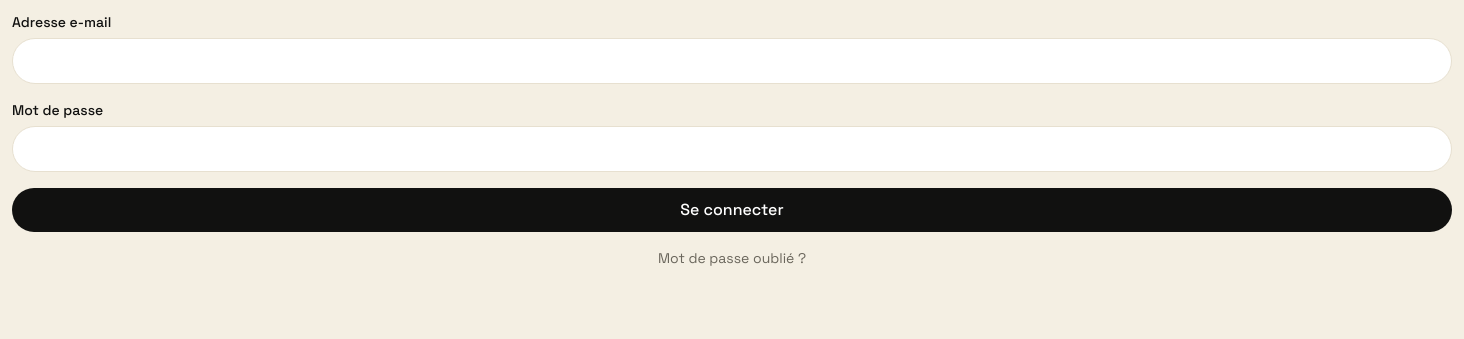
it: LoginForm › asks for an e-mail first when « Mot de passe oublié ? » is clicked empty
The image size is (1464, 339).
Click the button "Mot de passe oublié ?".
click(732, 258)  # box [12,248,1452,268]
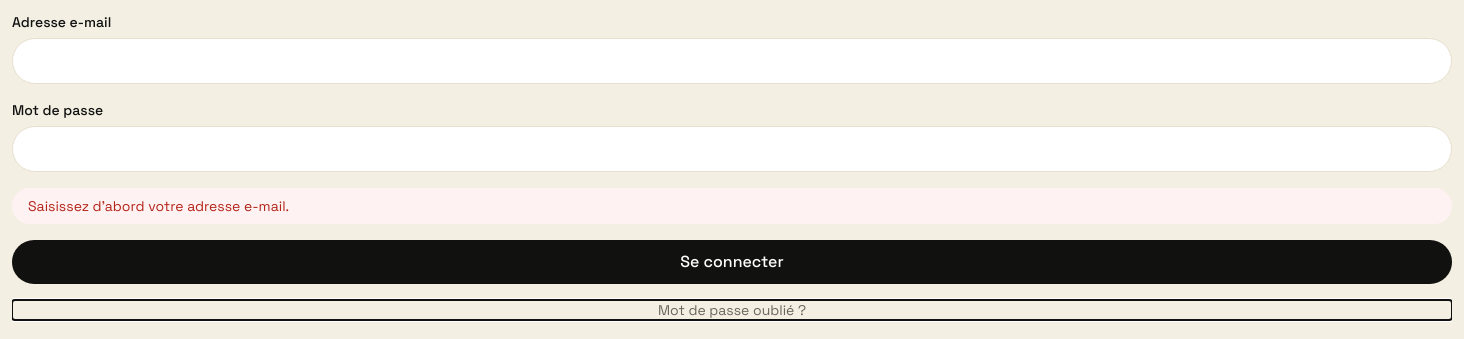
Check: the message reads "Saisissez d’abord votre adresse e-mail.", box [28,197,289,215]
